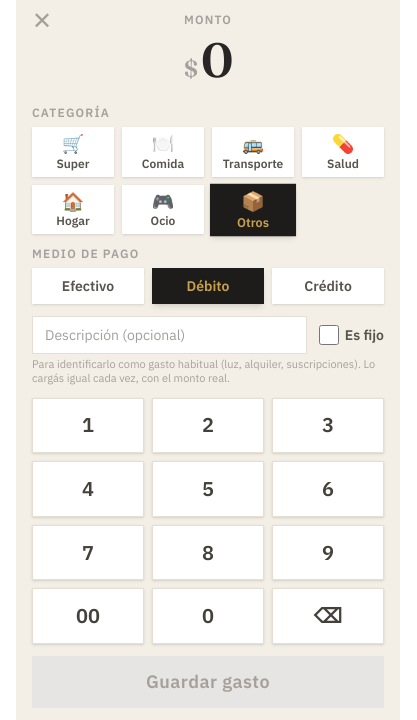
Test: Guardar › después de guardar el monto vuelve a "0"
Click the button "1": (88, 425) left=32, top=398, right=144, bottom=453
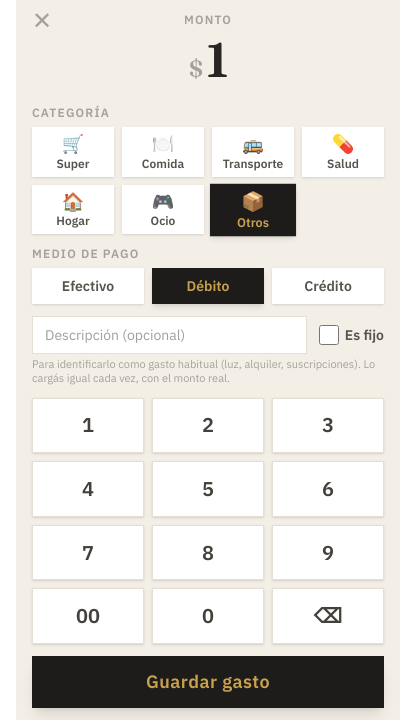
Click the button "5": (208, 489) left=152, top=461, right=264, bottom=517
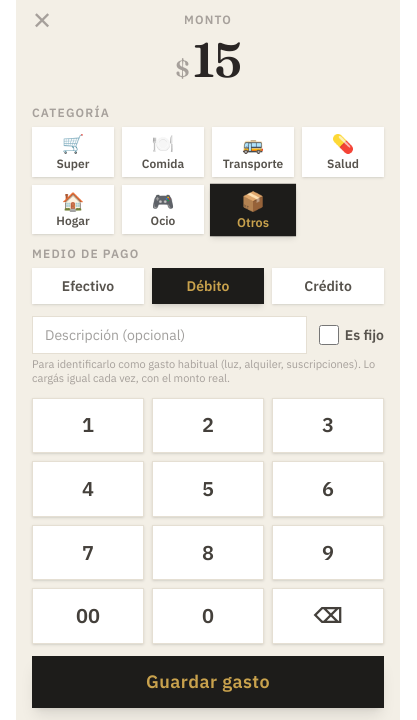
Click the button with id "tecla-0": (208, 616) left=152, top=588, right=264, bottom=644
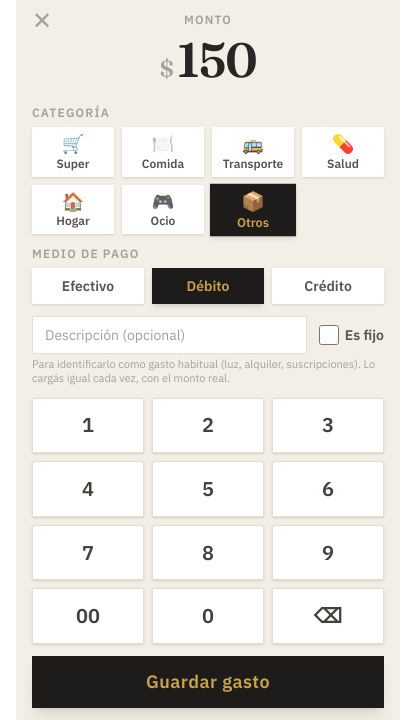
Click the button with id "tecla-0": (208, 616) left=152, top=588, right=264, bottom=644
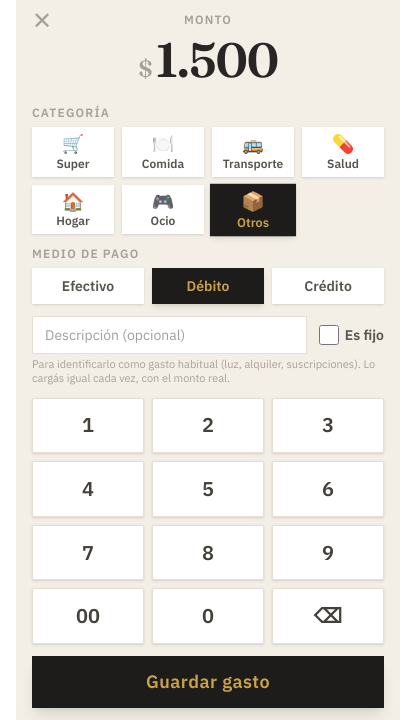
Click the button with id "btn-guardar": (208, 682) left=32, top=656, right=384, bottom=708
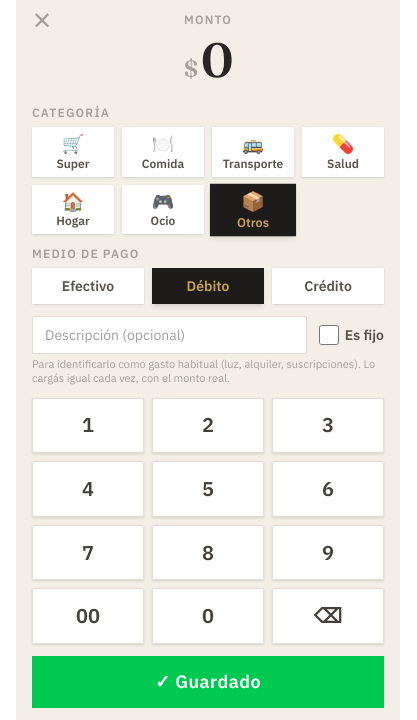
expect the text with id "display-monto-valor" reads "0": met, box left=201, top=30, right=232, bottom=89
